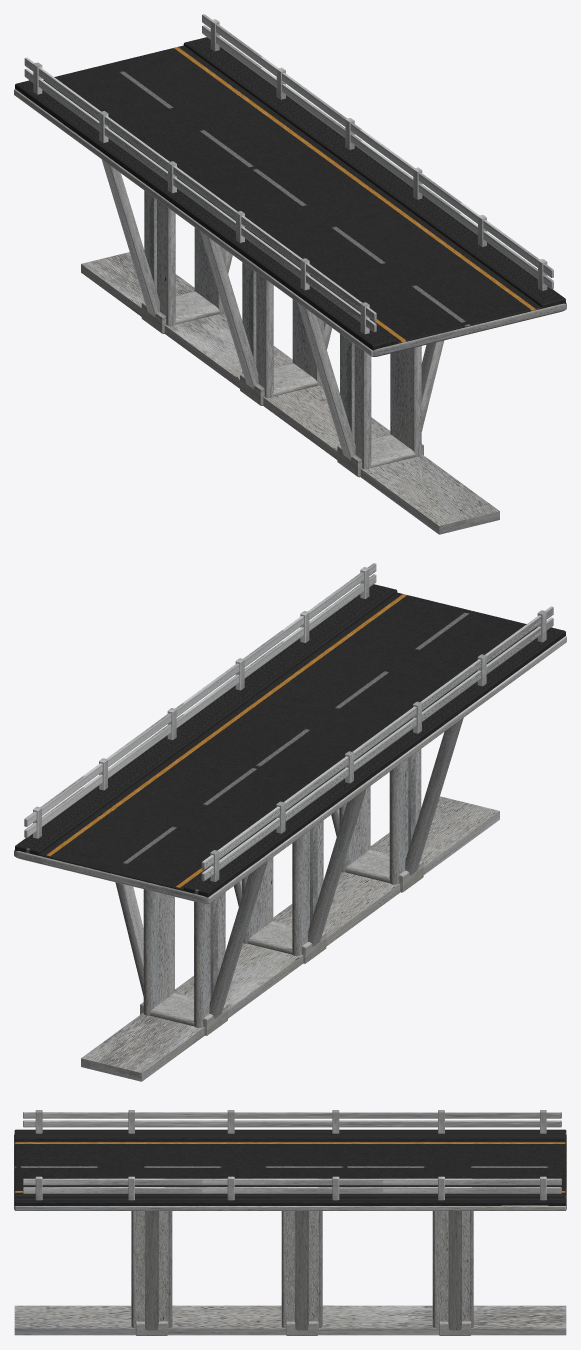
File: Bridge Model.fbx
The picture shows the model from 3 angles, top to bottom: view 1: azimuth 30°, elevation 25°; view 2: azimuth 150°, elevation 25°; view 3: azimuth 270°, elevation 25°; orthographic projection. The views are drawn at different scales.
Parts seen in each view (by area): view 1: pCube88; view 2: pCube88; view 3: pCube88.
Part boxes in pixels (left/top/right/bottom): pCube88: left=14, top=14, right=566, bottom=534; pCube88: left=14, top=563, right=566, bottom=1081; pCube88: left=14, top=1110, right=566, bottom=1335.
Bounding box in the file's own units: 3.86 × 4.39 × 12.23.
Materials: 4 (3 with a texture image).
